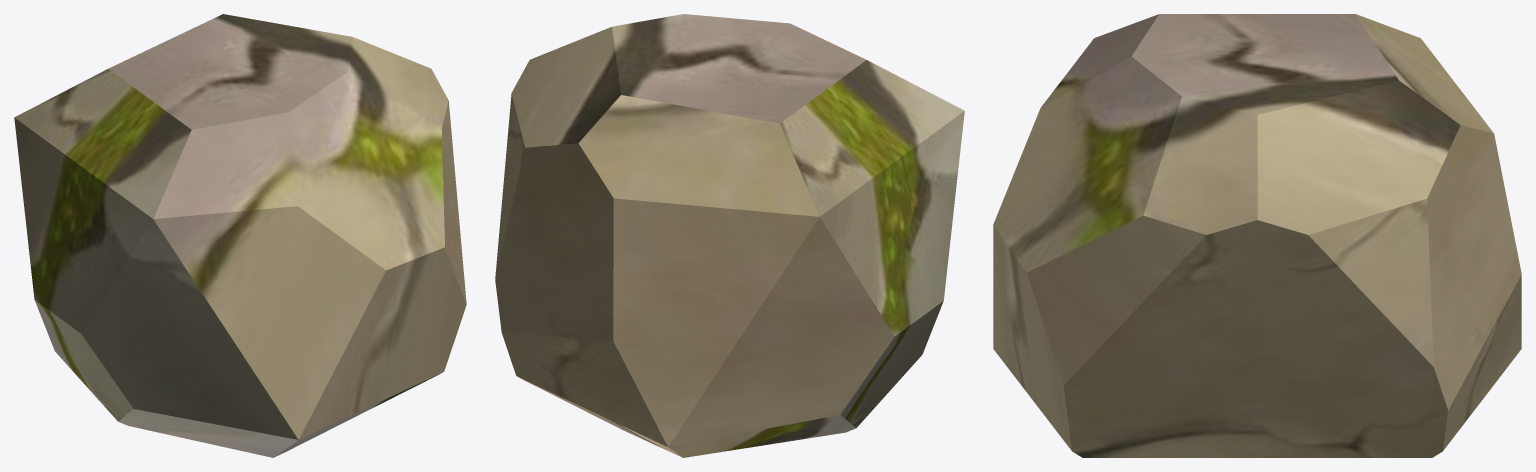
The model's file is rockTest.fbx.
3 views of the same model, side by side, from view 1: azimuth 30°, elevation 25°; view 2: azimuth 150°, elevation 25°; view 3: azimuth 270°, elevation 25° (orthographic). The views are drawn at different scales.
Parts seen in each view (by area): view 1: Icosphere; view 2: Icosphere; view 3: Icosphere.
Boxes of the visible parts, <box> form: Icosphere: <box>14,14,466,457</box>; Icosphere: <box>495,14,964,457</box>; Icosphere: <box>993,14,1521,457</box>.
Bounding box in the file's own units: 102 × 90.85 × 106.
1 material, 1 textured.
